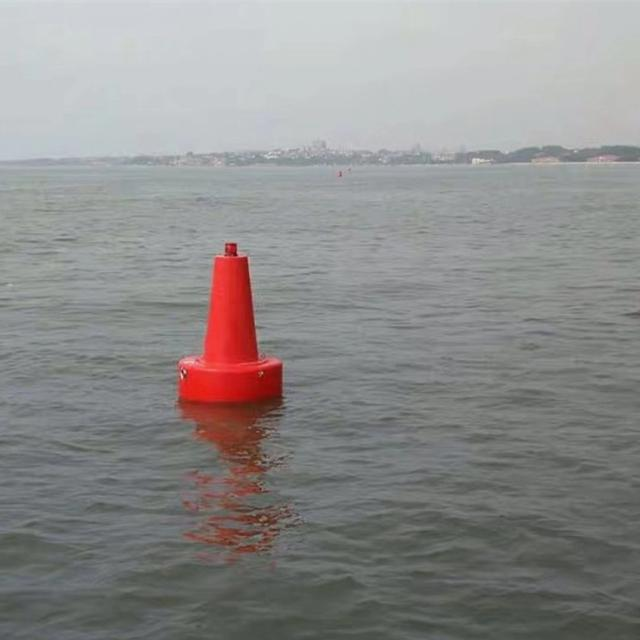buoy: (172, 234, 288, 407)
